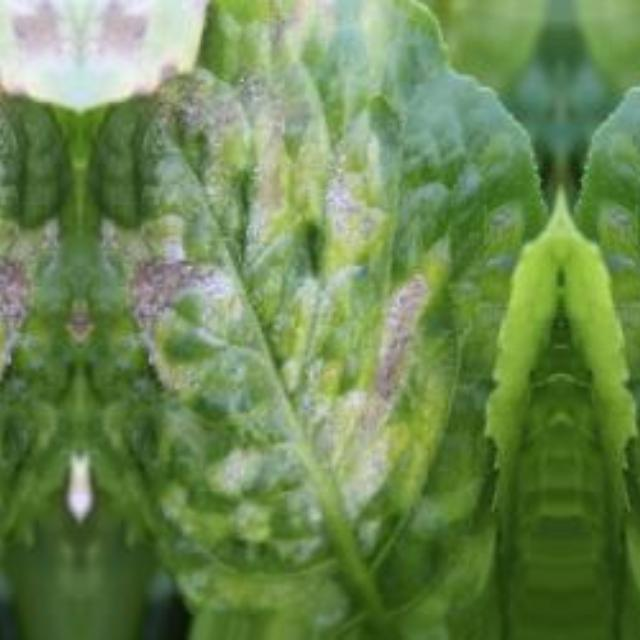Powdery_mildew: (100, 84, 366, 343), (145, 346, 381, 558), (0, 84, 58, 343), (381, 264, 427, 364), (0, 346, 13, 558)
